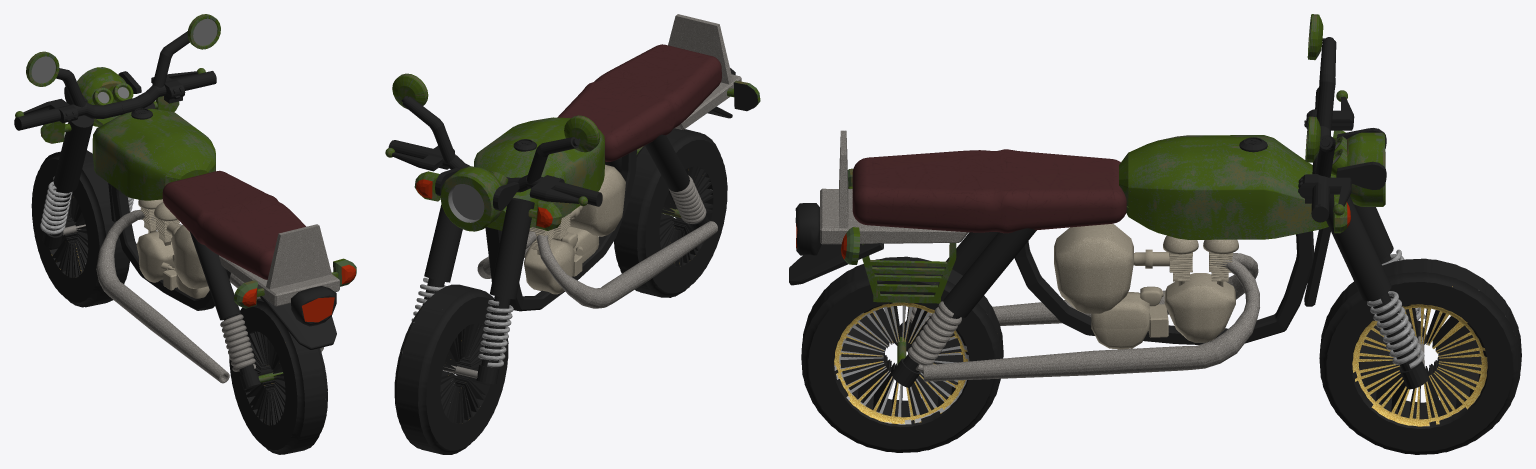
File: Bike Textured.glb
3 views of the same model, side by side, from view 1: azimuth 30°, elevation 25°; view 2: azimuth 150°, elevation 25°; view 3: azimuth 270°, elevation 25° (orthographic). The views are drawn at different scales.
Visible parts, largest first — view 1: pCube2; view 2: pCube2; view 3: pCube2.
Boxes of the visible parts, left/top/right/bottom form: pCube2: left=14, top=14, right=356, bottom=454; pCube2: left=385, top=14, right=760, bottom=454; pCube2: left=789, top=14, right=1521, bottom=454.
Size of the model in its own units: 2.19 by 3.15 by 5.46.
Materials: 12 (10 with a texture image).
